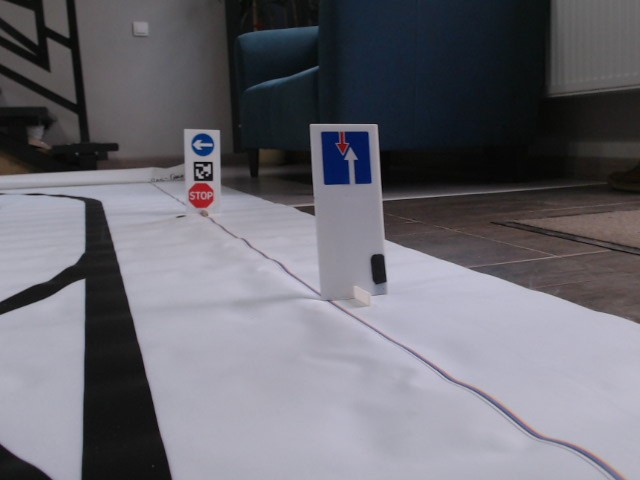Stop: (186, 181, 215, 208)
priority_movement: (320, 131, 372, 184)
